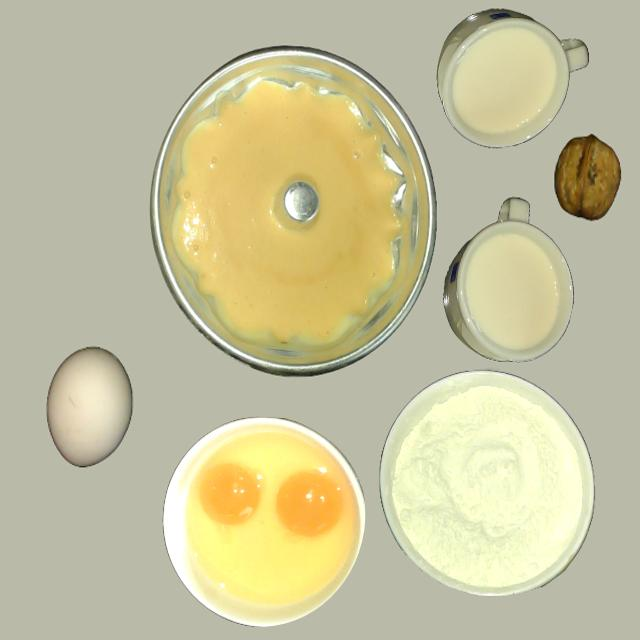Egg: (276, 471, 342, 537), (199, 464, 263, 526)
Flour: (378, 370, 593, 596)
Milk: (448, 24, 561, 138), (462, 232, 563, 352)
Walnut: (554, 135, 620, 220)
